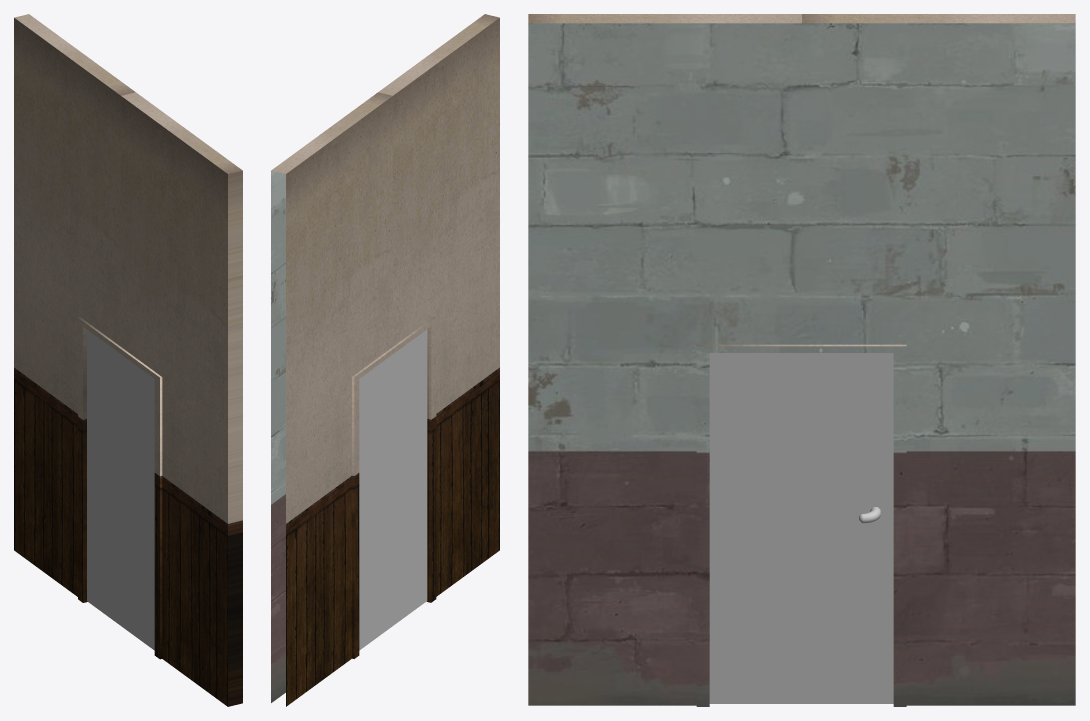
File: WardenDoor.fbx
3 views of the same model, side by side, from view 1: azimuth 30°, elevation 25°; view 2: azimuth 150°, elevation 25°; view 3: azimuth 270°, elevation 25° (orthographic). The views are drawn at different scales.
Visible parts, largest first — view 1: Wardenwall_door, Warden_Door; view 2: Wardenwall_door, Warden_Door; view 3: Wardenwall_door, Warden_Door.
Part boxes in pixels (x1,y1,x2,y2): Wardenwall_door: [14, 14, 242, 706]; Warden_Door: [87, 329, 154, 650]; Wardenwall_door: [271, 14, 499, 706]; Warden_Door: [359, 329, 427, 650]; Wardenwall_door: [528, 14, 1075, 706]; Warden_Door: [709, 353, 893, 703].
Size of the model in its own units: 0.4878 by 8.13 by 5.92.
